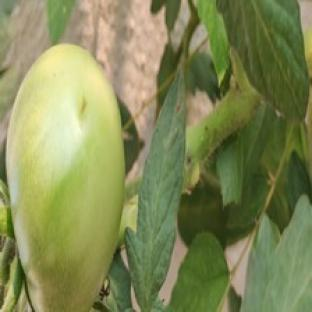Tomato: (6, 45, 125, 311)
